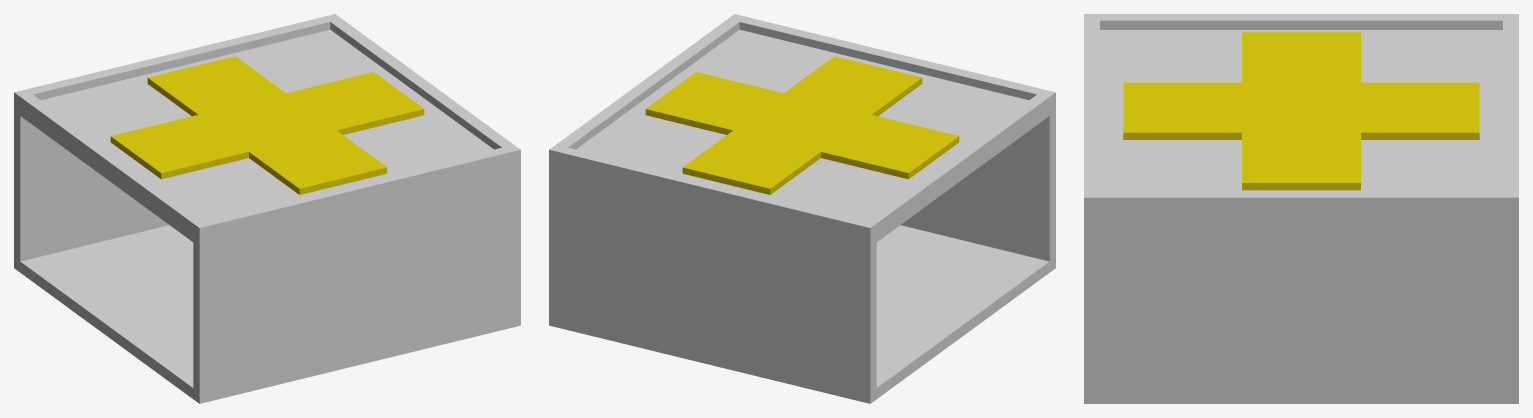
The model's file is ExtendingPlatform.fbx.
3 views of the same model, side by side, from view 1: azimuth 30°, elevation 25°; view 2: azimuth 150°, elevation 25°; view 3: azimuth 270°, elevation 25° (orthographic). The views are drawn at different scales.
Parts seen in each view (by area): view 1: ExtendingPlatform; view 2: ExtendingPlatform; view 3: ExtendingPlatform.
Part boxes in pixels (box(x1,y1,x2,y2)): ExtendingPlatform: box(14, 14, 520, 403); ExtendingPlatform: box(549, 14, 1055, 403); ExtendingPlatform: box(1084, 14, 1518, 403).
Bounding box in the file's own units: 200 × 105 × 200.
